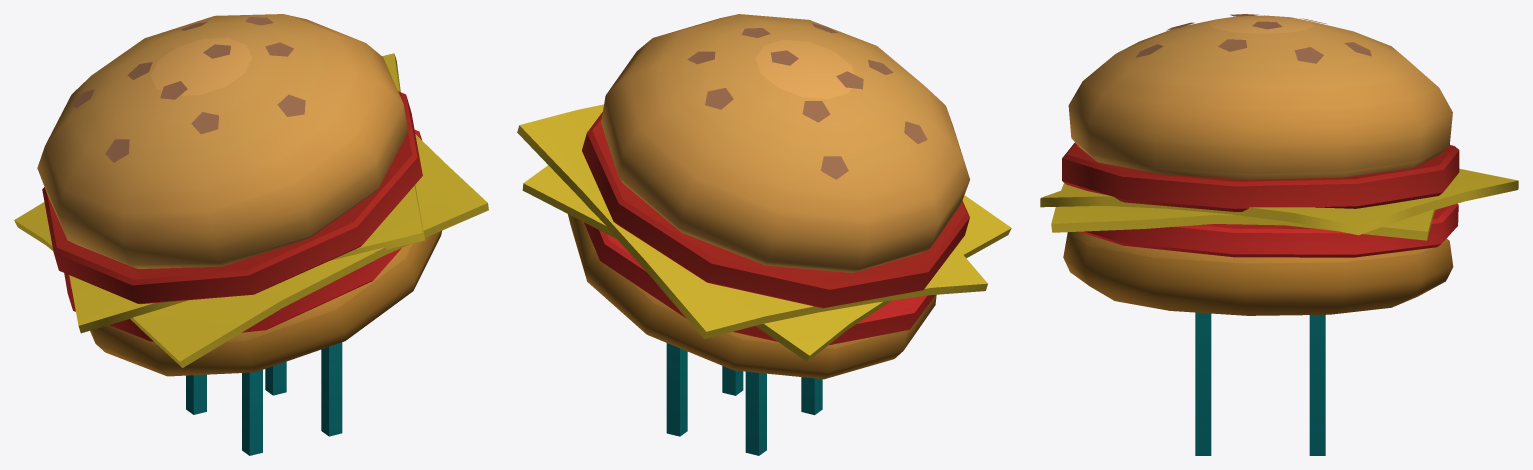
Rendered from BurgerSign_4_A.fbx.
The picture shows the model from 3 angles, left to right: view 1: azimuth 30°, elevation 25°; view 2: azimuth 150°, elevation 25°; view 3: azimuth 270°, elevation 25°; orthographic projection. The views are drawn at different scales.
Parts seen in each view (by area): view 1: BurgerSign_4_A; view 2: BurgerSign_4_A; view 3: BurgerSign_4_A.
Part boxes in pixels (box(x1,y1,x2,y2)): BurgerSign_4_A: box(14, 14, 488, 455); BurgerSign_4_A: box(517, 14, 1011, 455); BurgerSign_4_A: box(1040, 14, 1518, 455).
Size of the model in its own units: 266 by 245 by 273.
